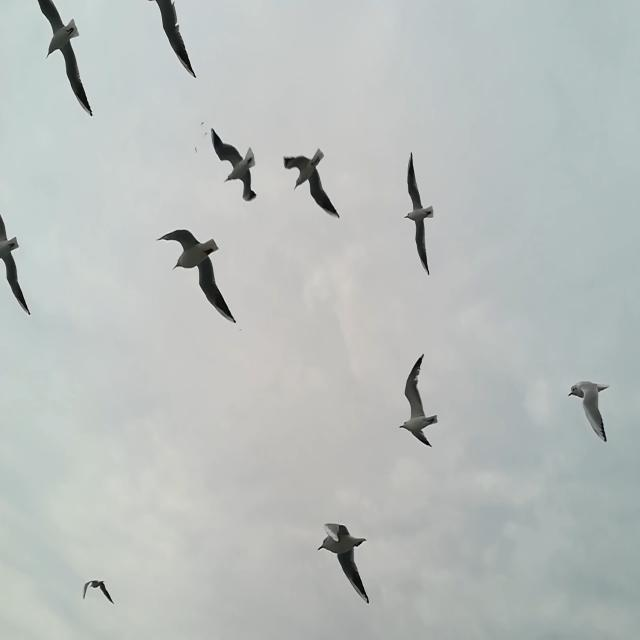bird: (155, 227, 238, 324), (35, 0, 93, 119), (282, 148, 342, 222), (316, 521, 369, 602), (145, 1, 197, 80), (404, 153, 436, 274), (398, 352, 438, 448), (210, 127, 256, 201), (0, 209, 31, 317), (568, 379, 611, 442), (82, 578, 115, 604), (200, 121, 204, 128), (195, 146, 198, 153), (204, 132, 208, 137)
